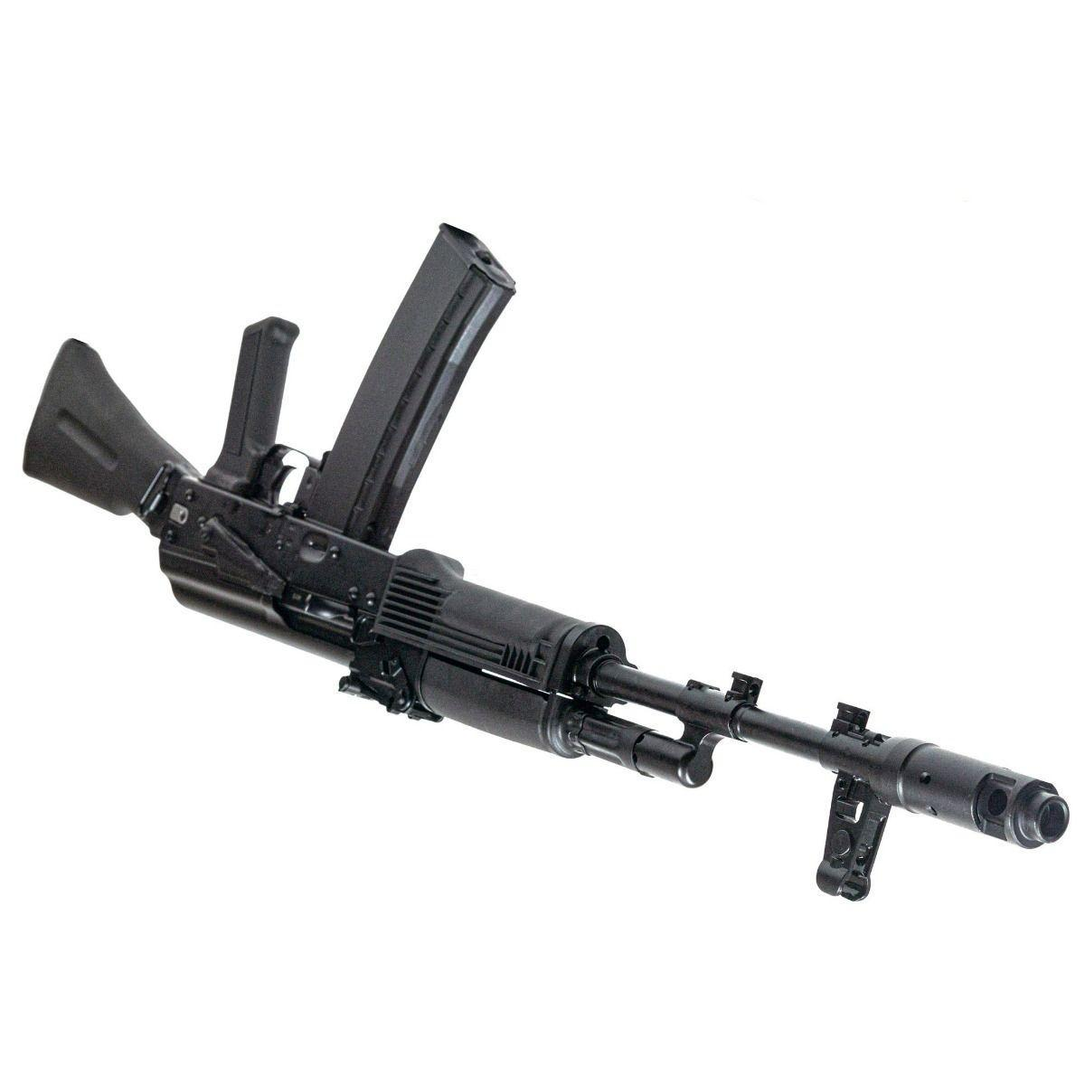larga: (21, 224, 1074, 903)
